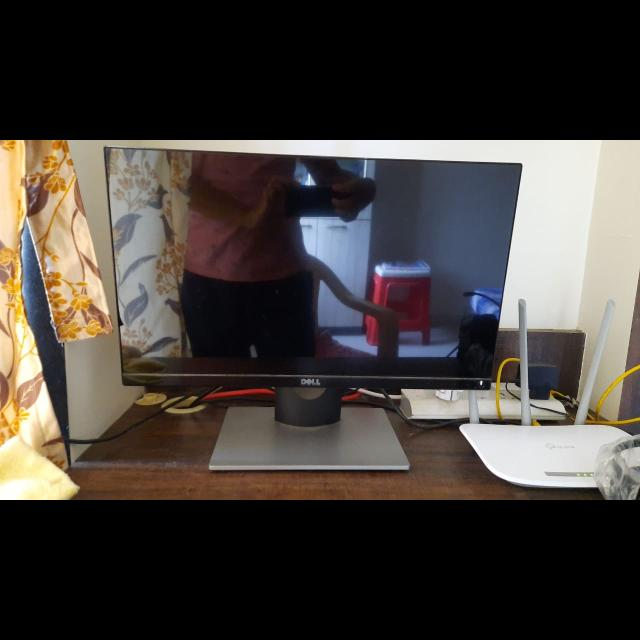Flat-Panel-Monitor: (100, 146, 524, 478)
